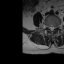CCS_stenosis: (51, 25, 52, 32)
LFS_normal: (54, 24, 56, 30)
LLS_normal: (52, 25, 54, 32)
RFS_normal: (47, 23, 49, 30)
RLS_normal: (49, 24, 51, 31)
